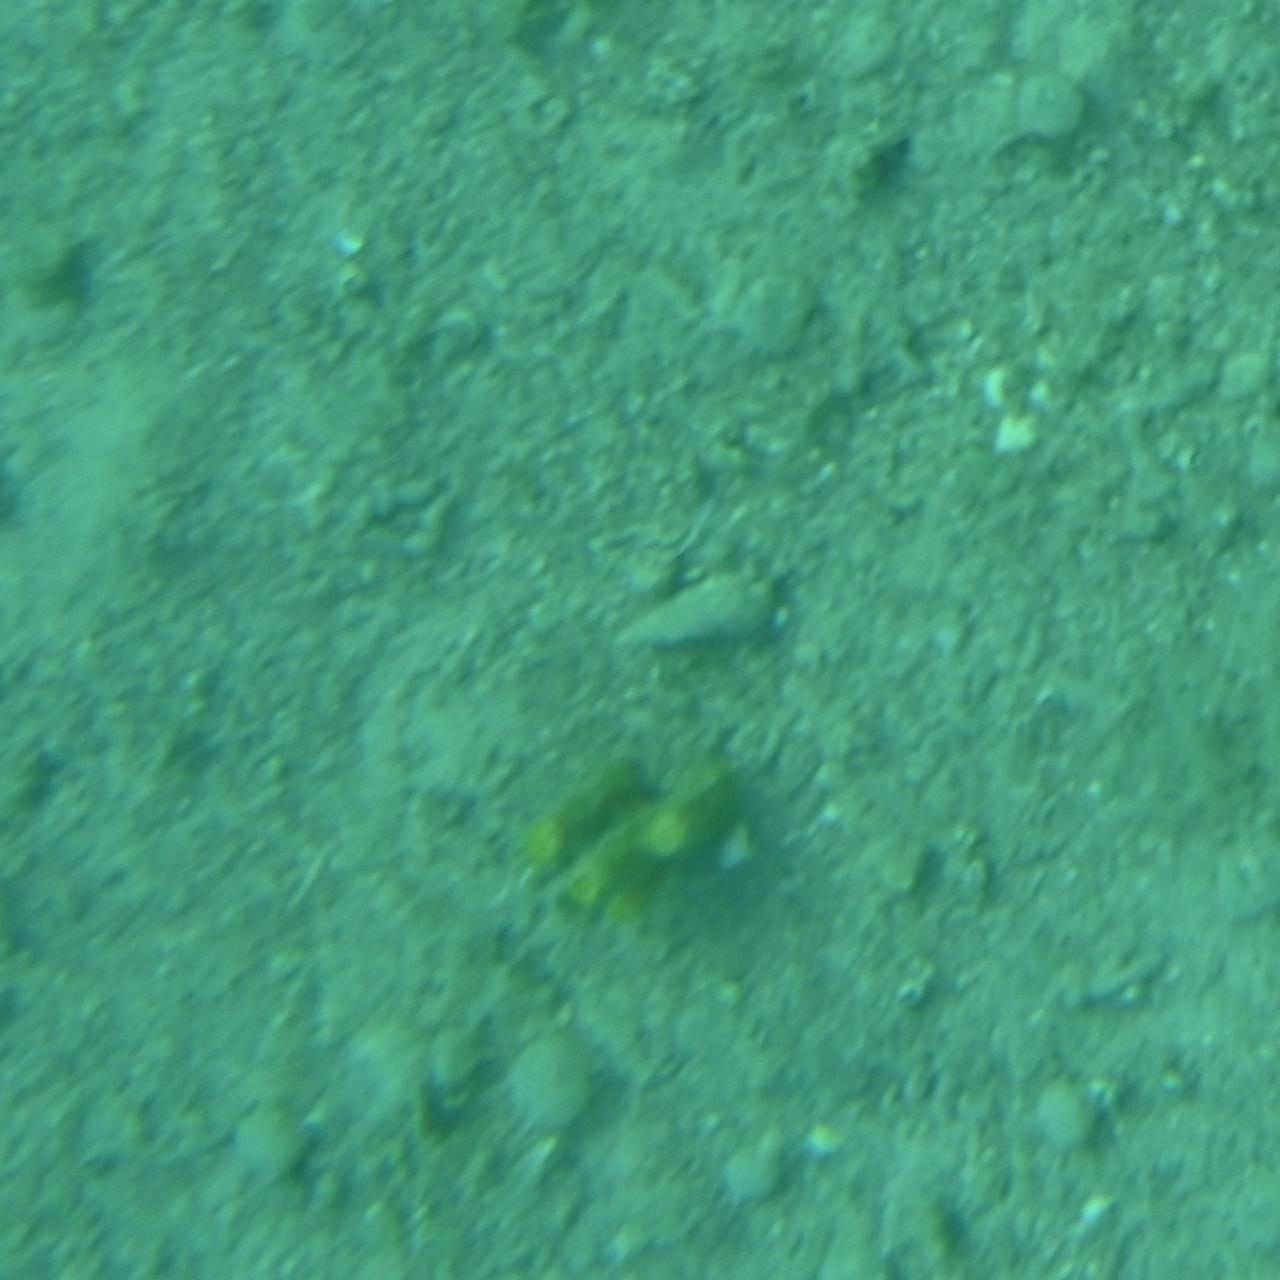Aplysina aerophoba: (515, 747, 765, 969)
